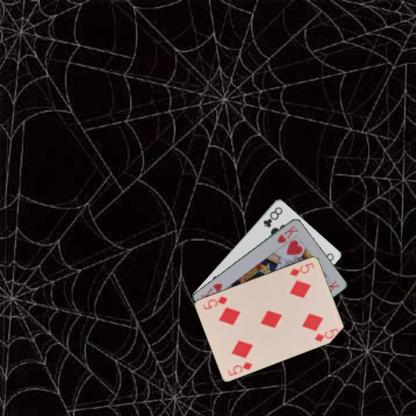5d: (225, 359, 254, 377), (287, 260, 316, 277)
8c: (260, 204, 284, 229)
Kh: (274, 222, 300, 244)
